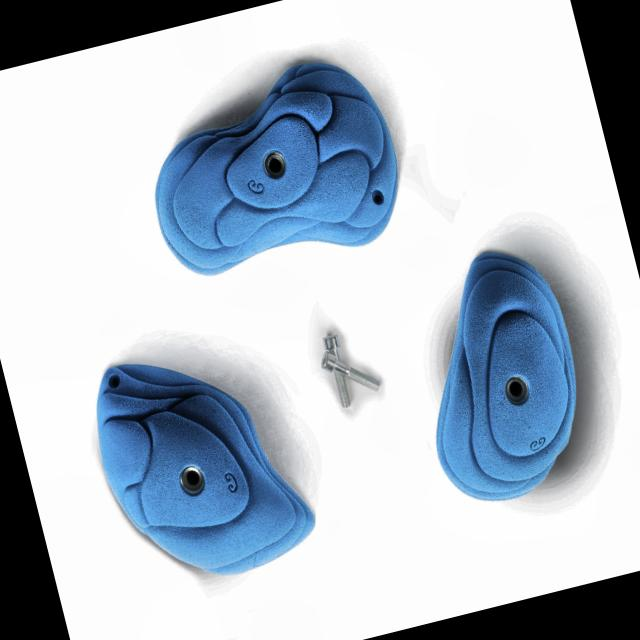Hold: (132, 46, 414, 294), (74, 326, 324, 601), (391, 234, 606, 514)
